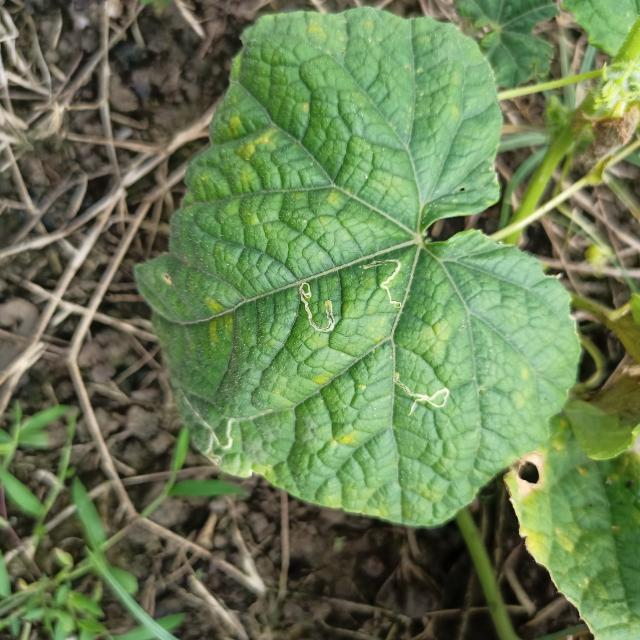disease_cucumber: (230, 115, 277, 161), (202, 295, 235, 345), (332, 426, 363, 454)
